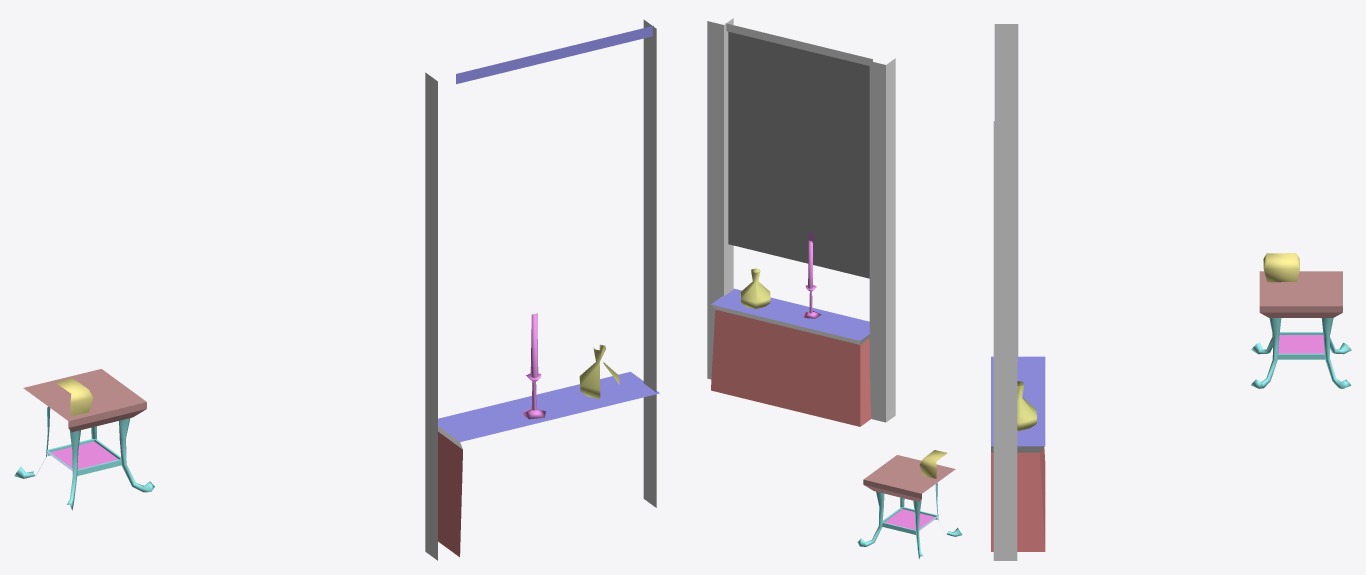
File: interior_B_delf_store_06.gltf
The picture shows the model from 3 angles, left to right: view 1: azimuth 30°, elevation 25°; view 2: azimuth 150°, elevation 25°; view 3: azimuth 270°, elevation 25°; orthographic projection. The views are drawn at different scales.
Parts seen in each view (by area): view 1: interior_B_delf_store_06; view 2: interior_B_delf_store_06; view 3: interior_B_delf_store_06.
Boxes of the visible parts, x1,y1,x2,y2 form: interior_B_delf_store_06: (14,19,659,560); interior_B_delf_store_06: (707,18,962,559); interior_B_delf_store_06: (991,24,1351,560).
Bounding box in the file's own units: 1.31 × 1.26 × 0.9397.
